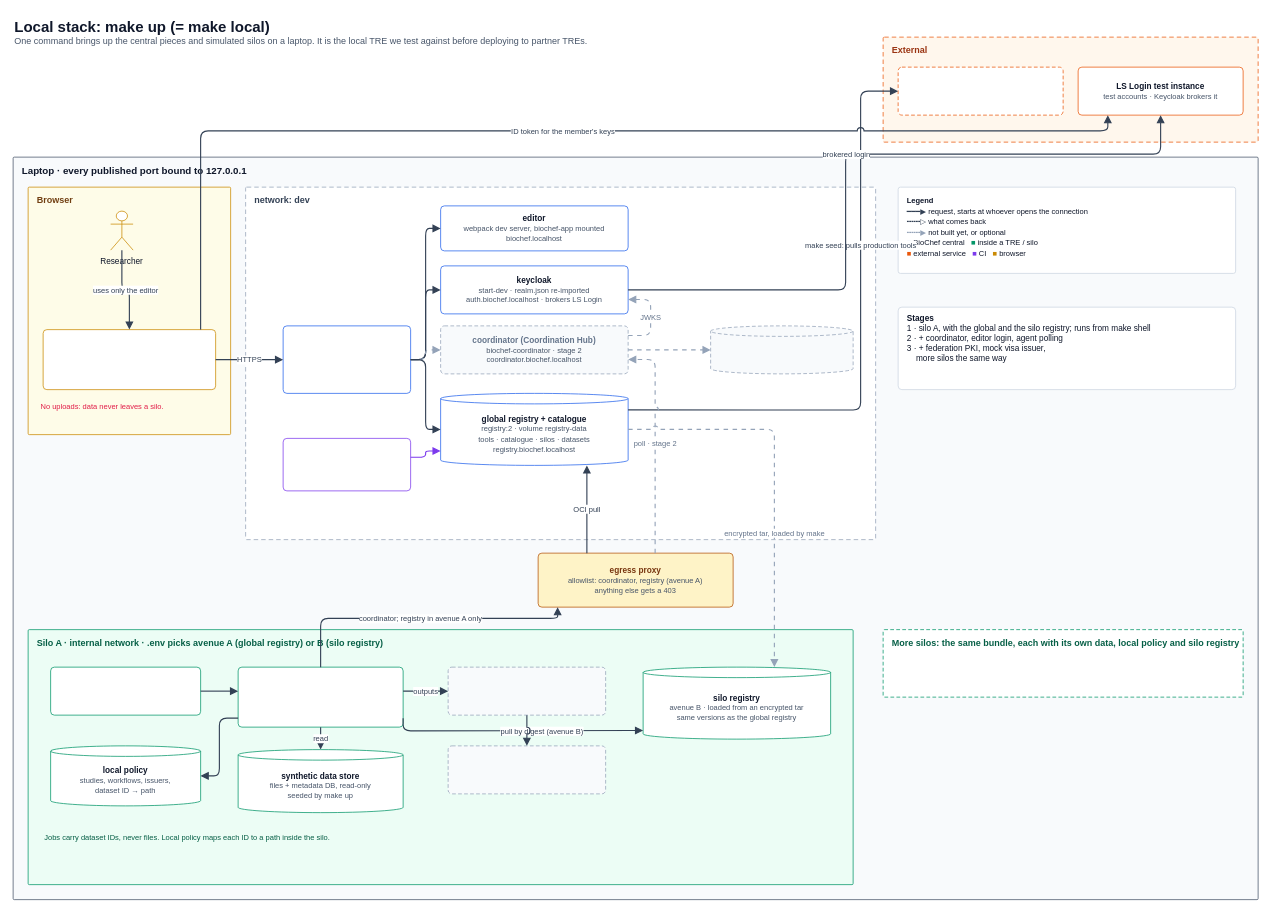
Image size: 1271x913. Some labels were removed from this diagram. The centre of each missing label's shape, as x and y in pixels:
agent built from biochef-agent no published port: (x=320, y=696)
airlock stub: approves locally: (x=526, y=769)
caddy :80 :443 · internal CA *.biochef.localhost: (x=346, y=359)
editor in the browser loaded from biochef.localhost signs and encrypts jobs: (x=129, y=359)
Policy Engine stub until built: (x=526, y=690)
postgres volume coordinator-db: (x=781, y=349)
registry.biochef.app production tools and catalogue: (x=980, y=90)
shell make shell · runs in stage 1: (x=125, y=690)
tools hub make recipes · biochef-hub publishes to the registry: (x=346, y=464)
